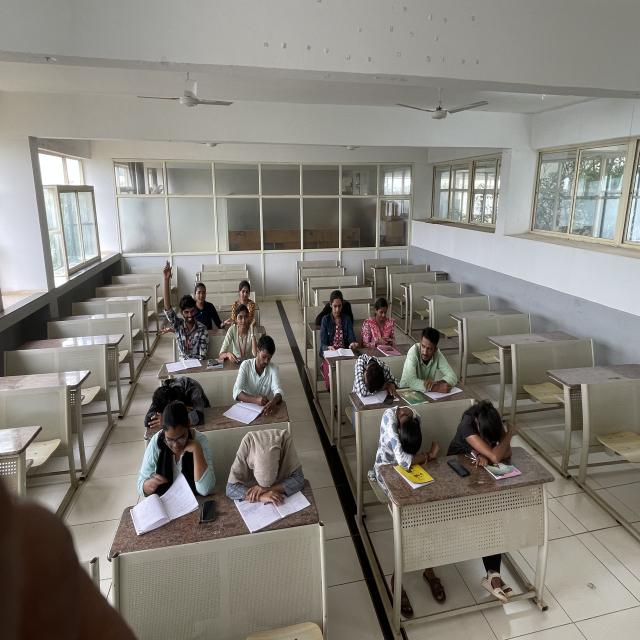Hand Rising: (144, 261, 211, 356)
Reading: (128, 403, 198, 528), (316, 296, 362, 360)
Sleeping: (225, 426, 324, 505), (451, 400, 537, 468), (127, 367, 221, 429), (381, 407, 441, 469), (346, 349, 399, 408), (308, 277, 360, 324)
Using Phone: (218, 310, 264, 370), (361, 296, 413, 346)
Writing: (226, 339, 299, 423)
